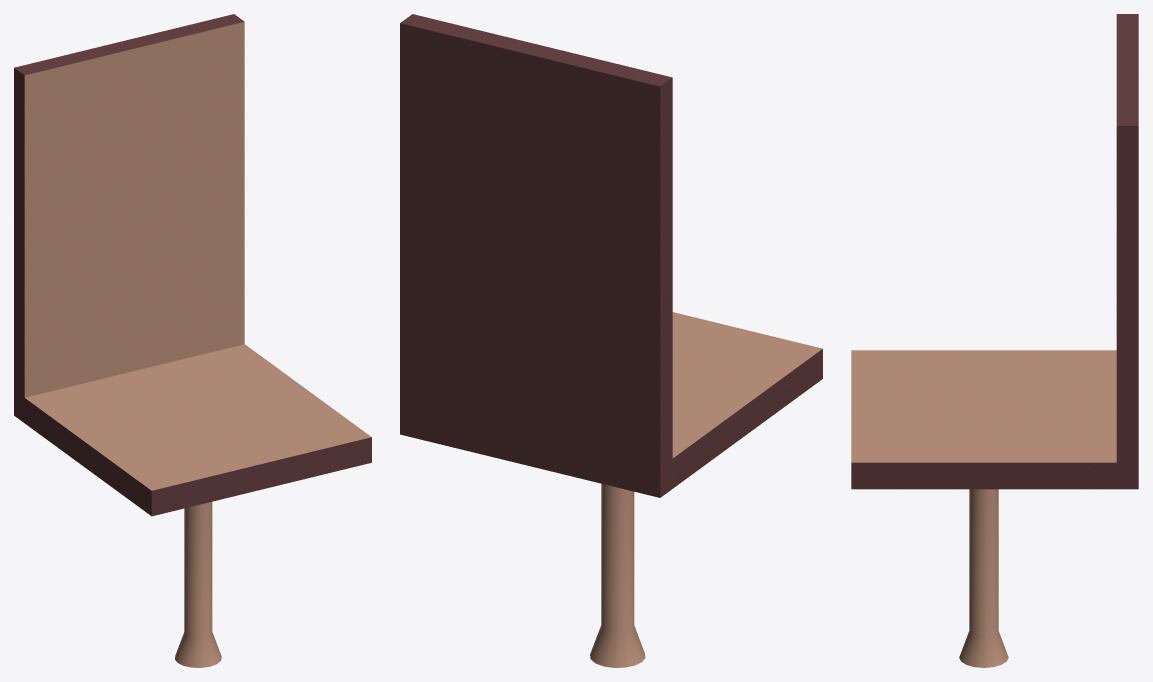
The model's file is PR_TableX4Chair.fbx.
3 renders of one model, left to right at view 1: azimuth 30°, elevation 25°; view 2: azimuth 150°, elevation 25°; view 3: azimuth 270°, elevation 25°, orthographic. The views are drawn at different scales.
Parts seen in each view (by area): view 1: Chair; view 2: Chair; view 3: Chair.
Part boxes in pixels (x1,y1,x2,y2): Chair: [14, 14, 371, 667]; Chair: [400, 14, 822, 667]; Chair: [851, 14, 1138, 667].
Size of the model in its own units: 45 by 110 by 48.75.
